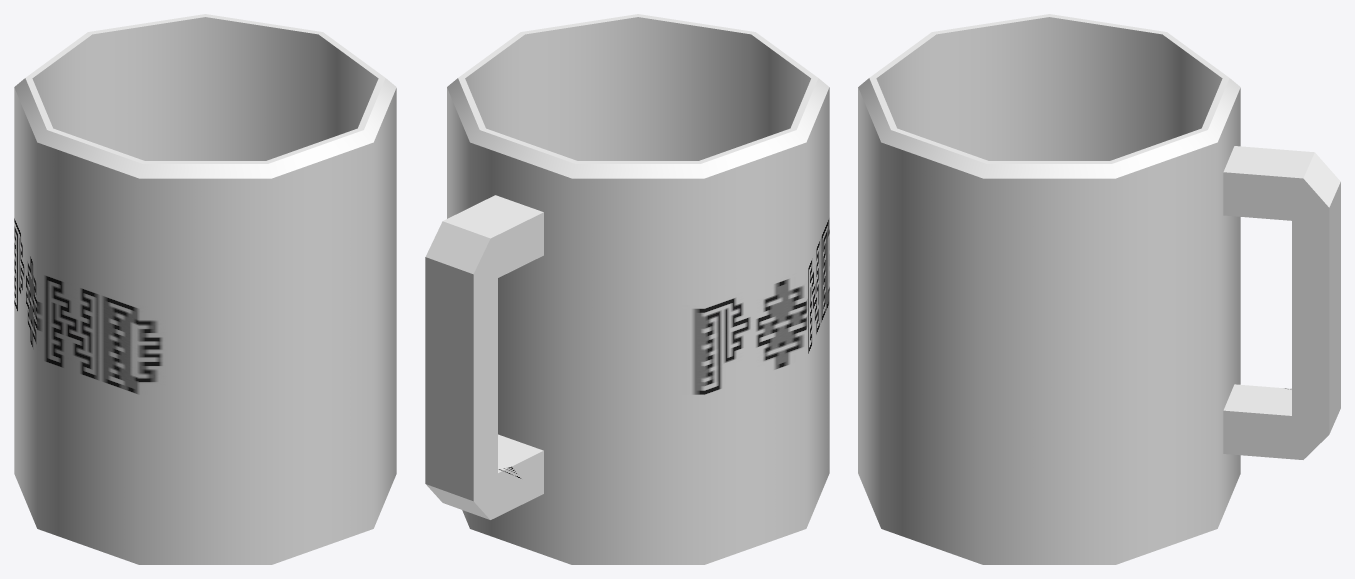
File: deez2.glb
3 views of the same model, side by side, from view 1: azimuth 30°, elevation 25°; view 2: azimuth 150°, elevation 25°; view 3: azimuth 270°, elevation 25° (orthographic).
Visible parts, largest first — view 1: polySurface1; view 2: polySurface1; view 3: polySurface1.
Part boxes in pixels (x1,y1,x2,y2): polySurface1: [14, 14, 396, 564]; polySurface1: [425, 14, 829, 564]; polySurface1: [858, 14, 1340, 564].
Size of the model in its own units: 1.55 by 1.8 by 1.98.
Materials: 1 (1 with a texture image).
